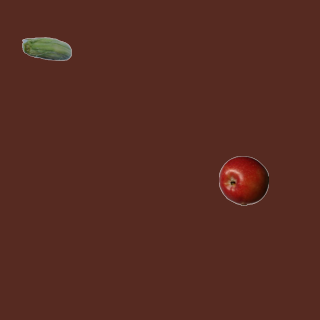Apple Braeburn: (218, 155, 268, 205)
Corn Husk: (21, 25, 71, 75)
